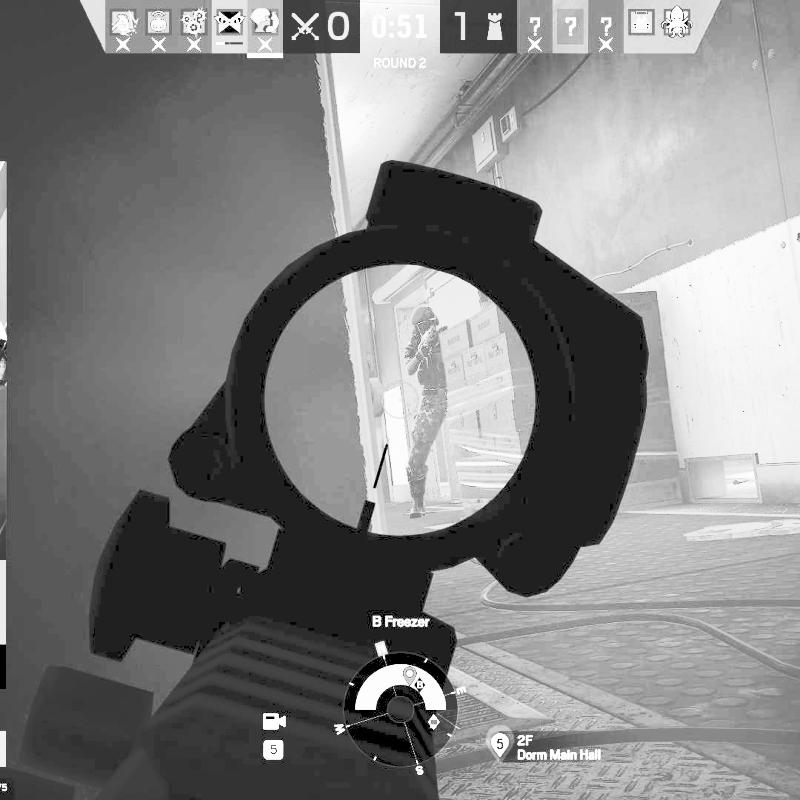Character: (402, 303, 447, 520)
Head: (411, 303, 442, 339)
